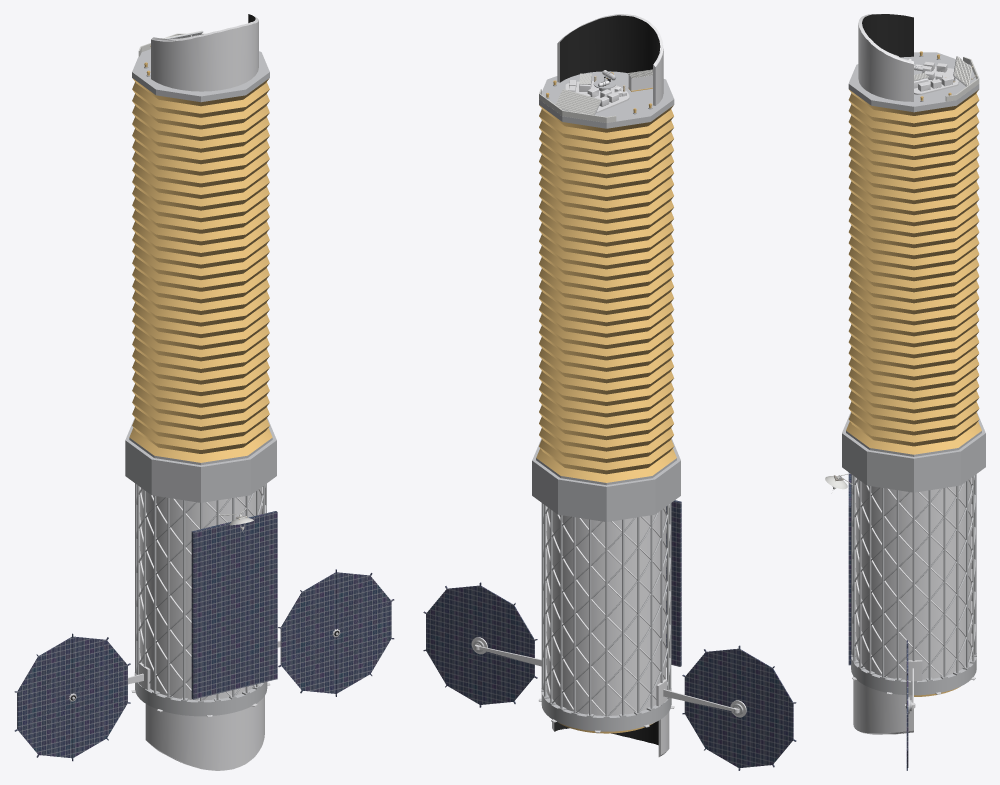
File: ixo.glb
3 views of the same model, side by side, from view 1: azimuth 30°, elevation 25°; view 2: azimuth 150°, elevation 25°; view 3: azimuth 270°, elevation 25° (orthographic). The views are drawn at different scales.
Parts seen in each view (by area): view 1: Layer_0; view 2: Layer_0; view 3: Layer_0.
Boxes of the visible parts, left/top/right/bottom form: Layer_0: left=14, top=14, right=394, bottom=770; Layer_0: left=423, top=14, right=796, bottom=770; Layer_0: left=825, top=14, right=985, bottom=770.
Size of the model in its own units: 12.36 by 23 by 4.78.
8 materials, 1 textured.
